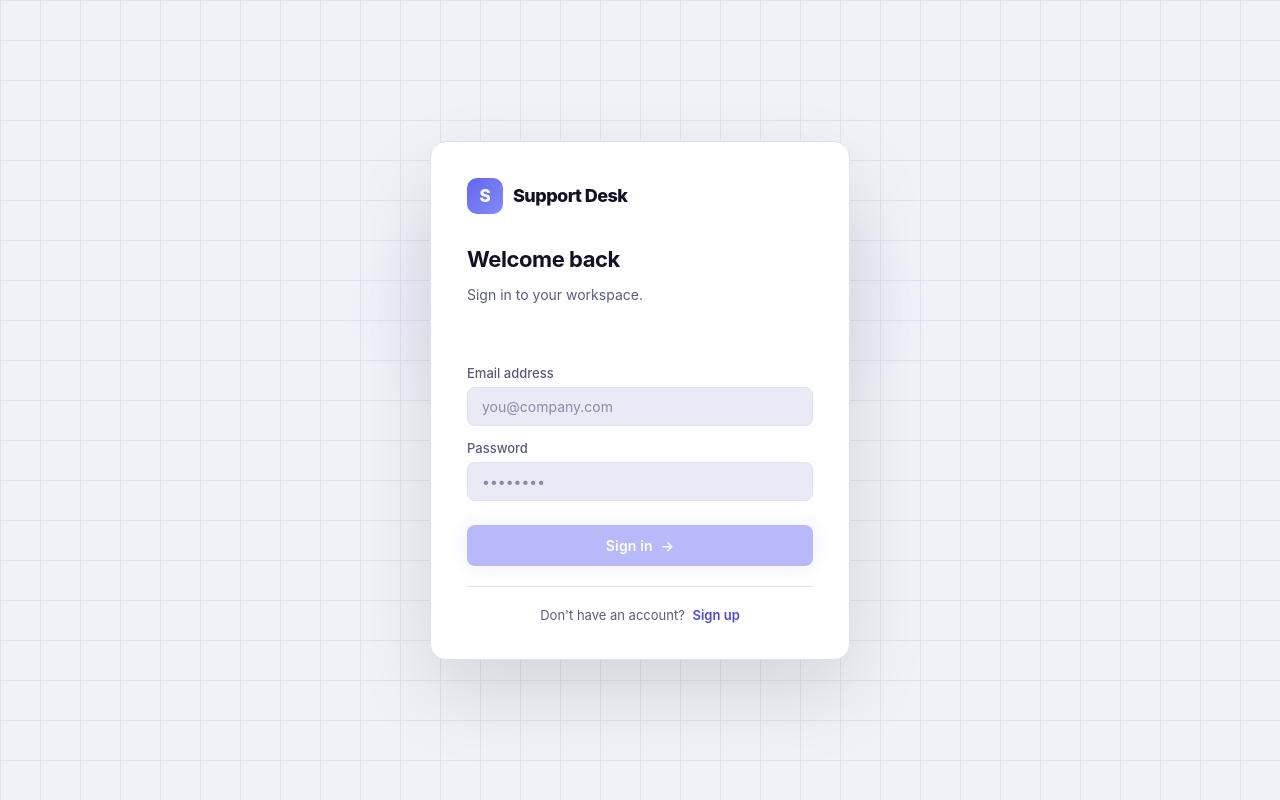
Scenario: Auth.vue – register mode › renders the register heading
This screenshot has width=1280, height=800.
Click the text with class "auth-switch-link" at coordinates (716, 614), box [692,606,740,622]
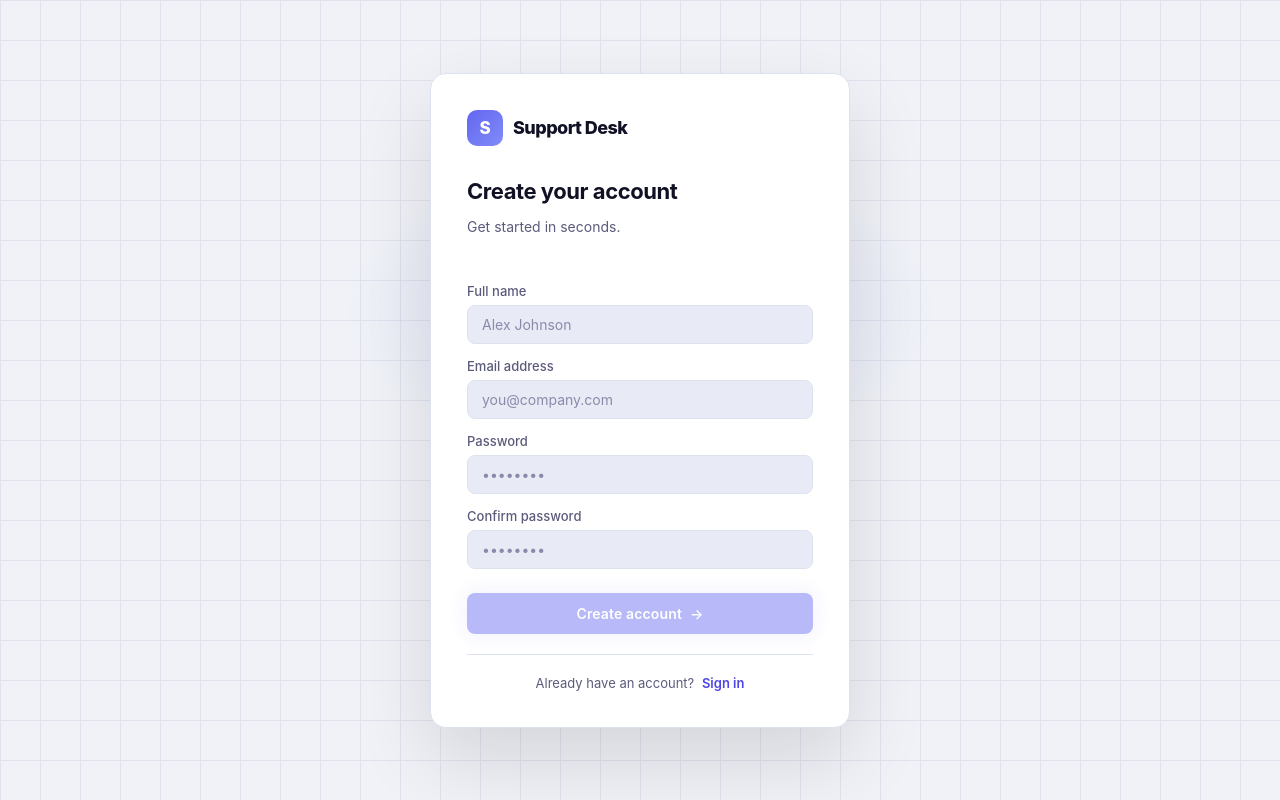
Check: the heading "Create your account" is shown, box [467,178,677,204]
